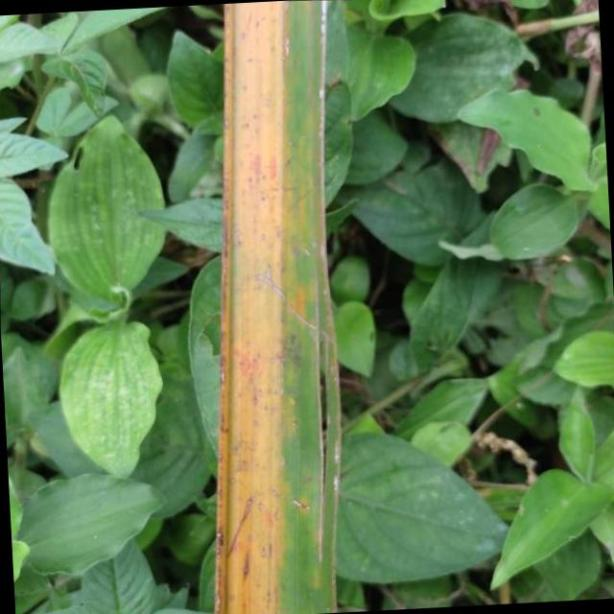Megnesium: (214, 0, 342, 614)
